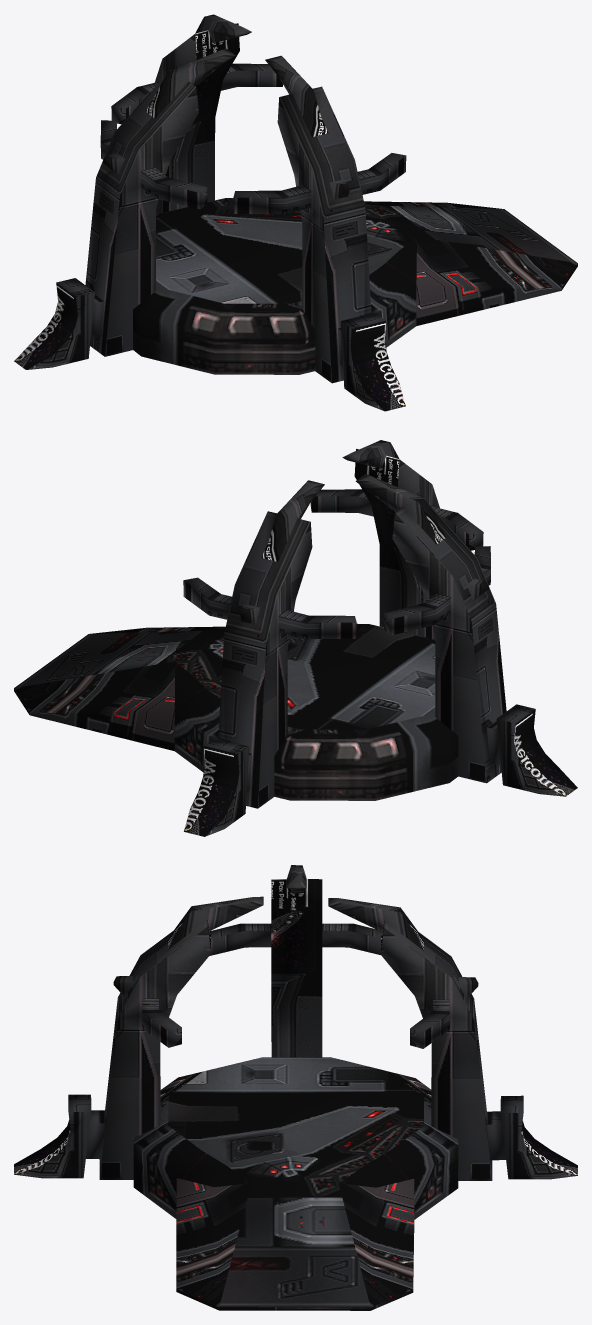
File: portal.glb
The picture shows the model from 3 angles, top to bottom: view 1: azimuth 30°, elevation 25°; view 2: azimuth 150°, elevation 25°; view 3: azimuth 270°, elevation 25°; orthographic projection. The views are drawn at different scales.
Parts seen in each view (by area): view 1: __lithtech_lh_to_gltf_rh__; view 2: __lithtech_lh_to_gltf_rh__; view 3: __lithtech_lh_to_gltf_rh__.
Part boxes in pixels (x1,y1,x2,y2): __lithtech_lh_to_gltf_rh__: [14, 14, 577, 411]; __lithtech_lh_to_gltf_rh__: [14, 440, 577, 836]; __lithtech_lh_to_gltf_rh__: [14, 865, 577, 1310].
Bounding box in the file's own units: 387 × 188 × 355.
Materials: 2 (2 with a texture image).
